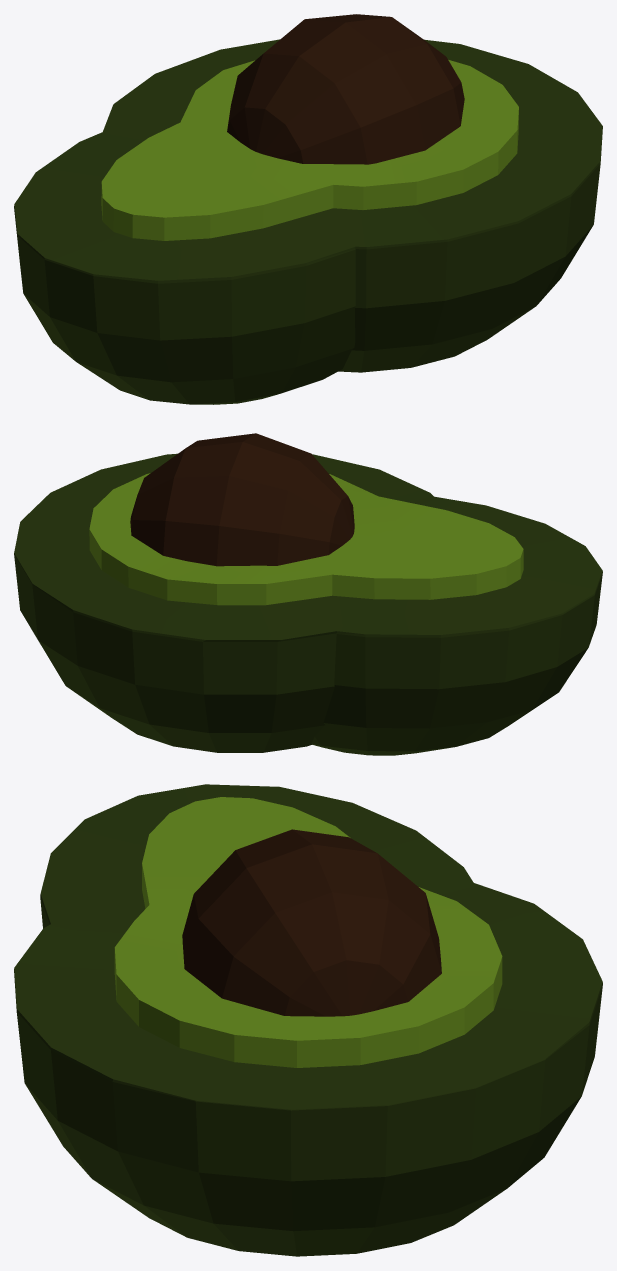
The model's file is Avocado.fbx.
3 views of the same model, one above another, from view 1: azimuth 30°, elevation 25°; view 2: azimuth 150°, elevation 25°; view 3: azimuth 270°, elevation 25° (orthographic). The views are drawn at different scales.
Parts seen in each view (by area): view 1: Sphere004; view 2: Sphere004; view 3: Sphere004.
Part boxes in pixels (x1,y1,x2,y2): Sphere004: (14,14,602,404); Sphere004: (14,433,602,755); Sphere004: (14,784,602,1256).
Size of the model in its own units: 86.7 by 47.05 by 66.27.
